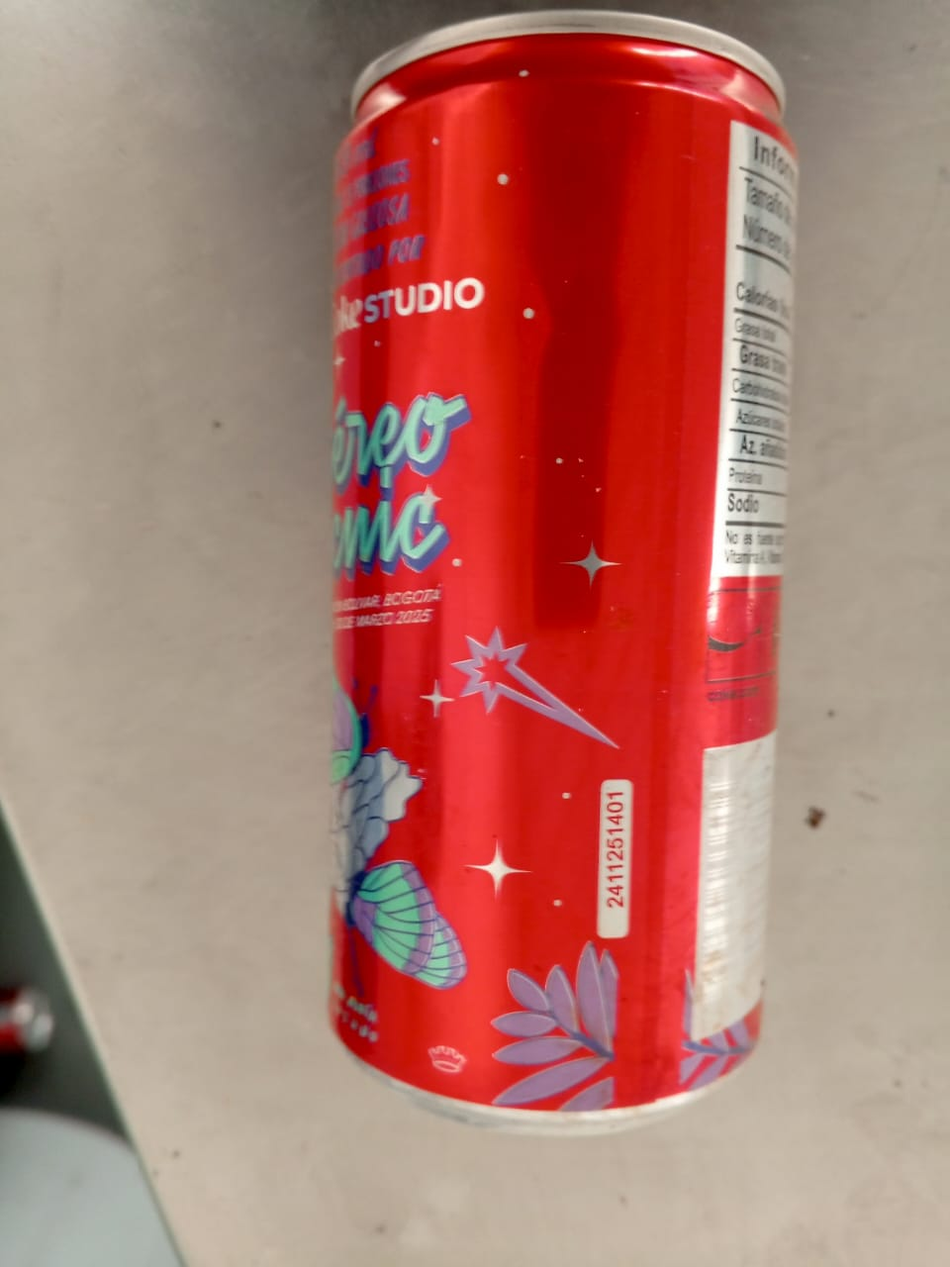Metal: (334, 18, 797, 1138)
